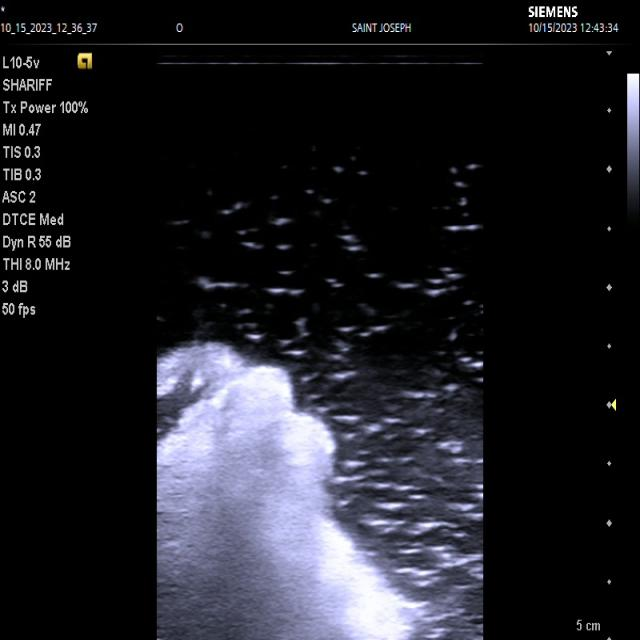tissue: (156, 348, 427, 640)
